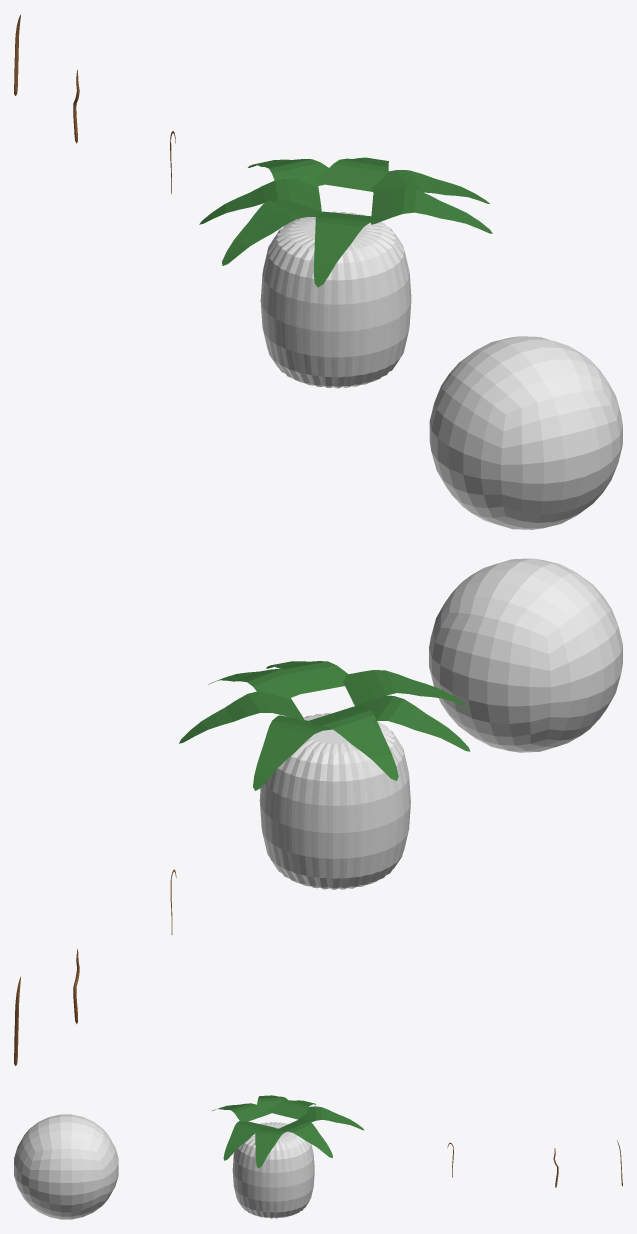
The model's file is raspberry.fbx.
The picture shows the model from 3 angles, top to bottom: view 1: azimuth 30°, elevation 25°; view 2: azimuth 150°, elevation 25°; view 3: azimuth 270°, elevation 25°; orthographic projection. The views are drawn at different scales.
Parts seen in each view (by area): view 1: Cube.001, rasp, Plane.005, leaf, Plane.004, Plane.001, Plane.002, Plane.003, Plane; view 2: Cube.001, rasp, Plane.001, Plane, Plane.005, Plane.002, Plane.004, leaf, Plane.003; view 3: Cube.001, rasp, Plane.002, leaf, Plane.003, Plane, Plane.001, Plane.005, Plane.004.
Boxes of the visible parts, x1,y1,x2,y2 form: Cube.001: (429, 336, 622, 529); rasp: (260, 211, 411, 388); Plane.005: (313, 211, 385, 287); leaf: (371, 188, 492, 233); Plane.004: (222, 200, 323, 265); Plane.001: (199, 179, 321, 224); Plane.002: (316, 157, 388, 191); Plane.003: (371, 170, 489, 203); Plane: (248, 159, 328, 186); Cube.001: (429, 558, 622, 752); rasp: (259, 713, 410, 889); Plane.001: (309, 704, 398, 780); Plane: (253, 715, 332, 790); Plane.005: (343, 670, 466, 705); Plane.002: (179, 691, 304, 743); Plane.004: (360, 695, 470, 751); leaf: (266, 661, 348, 695); Plane.003: (208, 668, 299, 698); Cube.001: (14, 1114, 118, 1219); rasp: (232, 1122, 314, 1218); Plane.002: (279, 1118, 332, 1158); leaf: (223, 1121, 275, 1160); Plane.003: (255, 1128, 287, 1168); Plane: (298, 1106, 364, 1130); Plane.001: (268, 1100, 315, 1119); Plane.005: (212, 1103, 271, 1121); Plane.004: (257, 1095, 288, 1112).
Bounding box in the file's own units: 544 × 364 × 1986.
